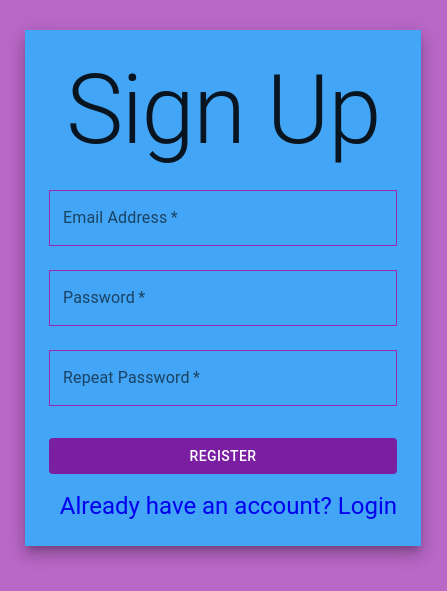
it: Register Page › Checks invalid password typing
Type "example@gmail.com" into the field labelled "Email Address *" at (223, 218), box [49, 190, 397, 246]
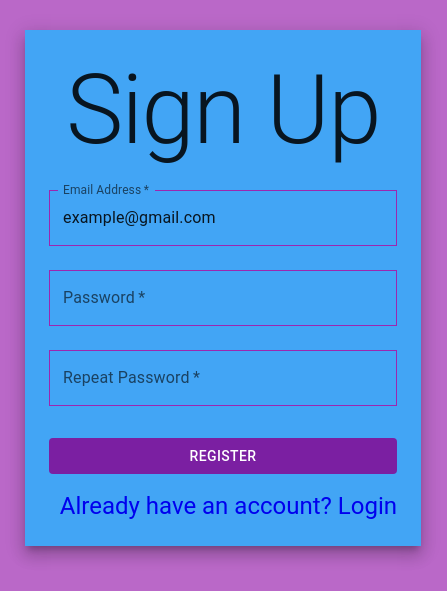
Type "123" into the password field with test id "password-input" at (223, 298), box [49, 270, 397, 326]
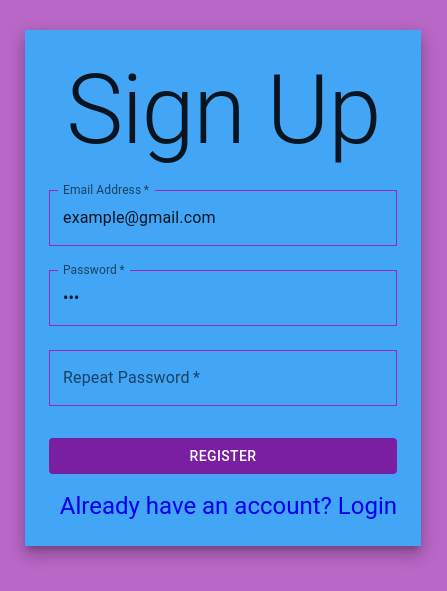
Type "1" into the password field with test id "repeat-password-input" at (223, 378), box [49, 350, 397, 406]
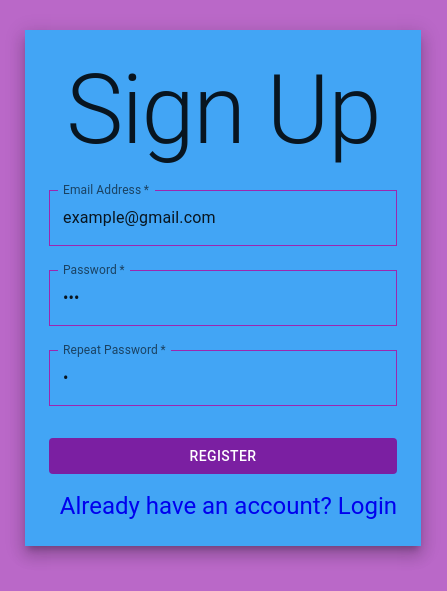
Click the button "Register" at (223, 456), box [49, 438, 397, 474]
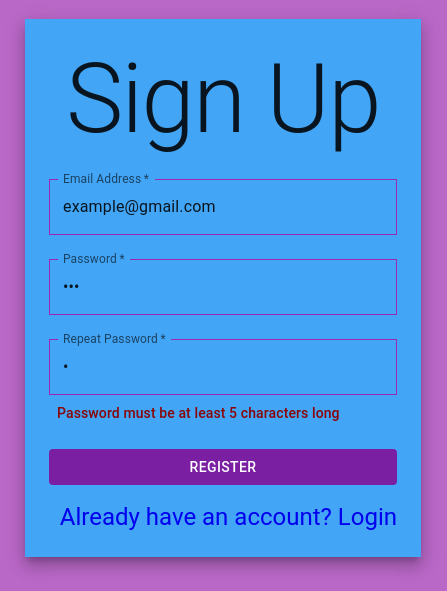
Now the heading "Password must be at least 5 characters long" is shown, box [57, 405, 340, 421]
